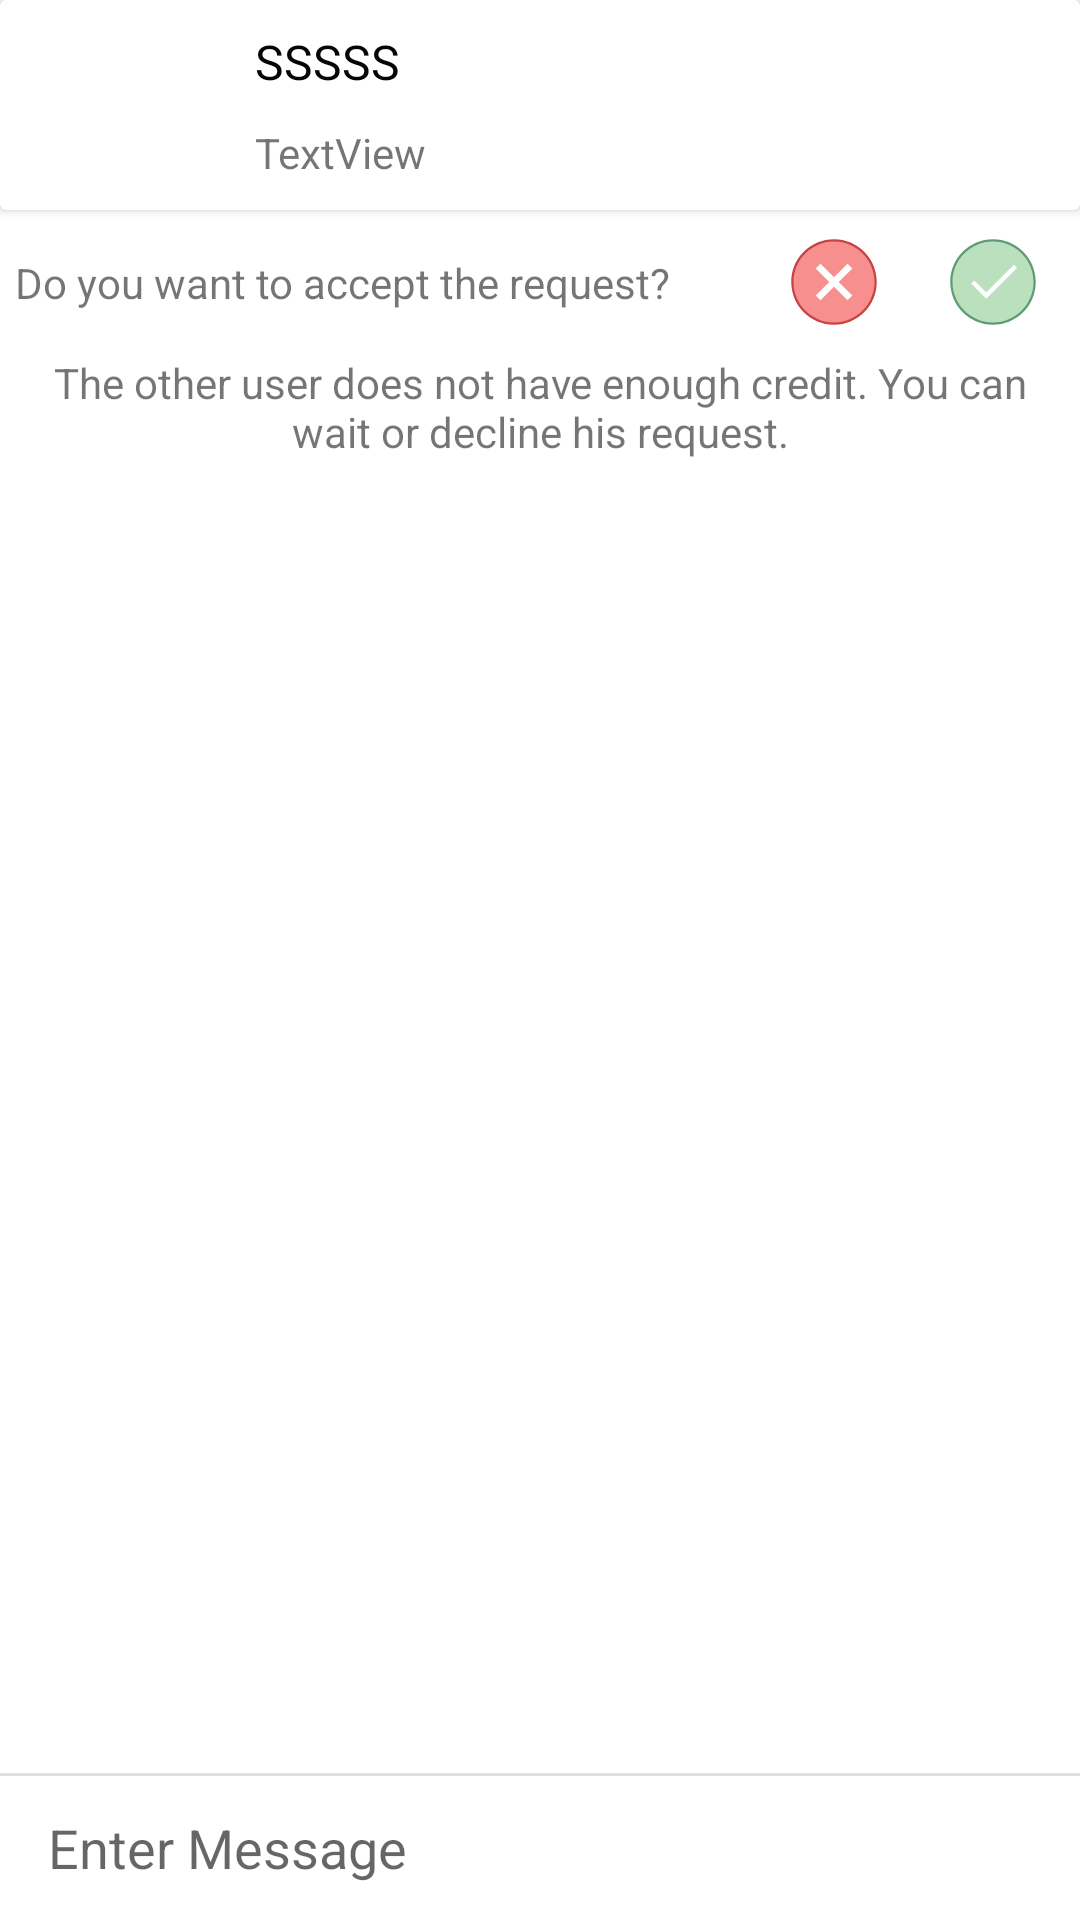

Icons on this 1080px x 1920px Android screen, each with the point to tap as point (x, y):
Button to accept the proposal: point (993, 282)
Button to refuse the proposal: point (834, 282)
